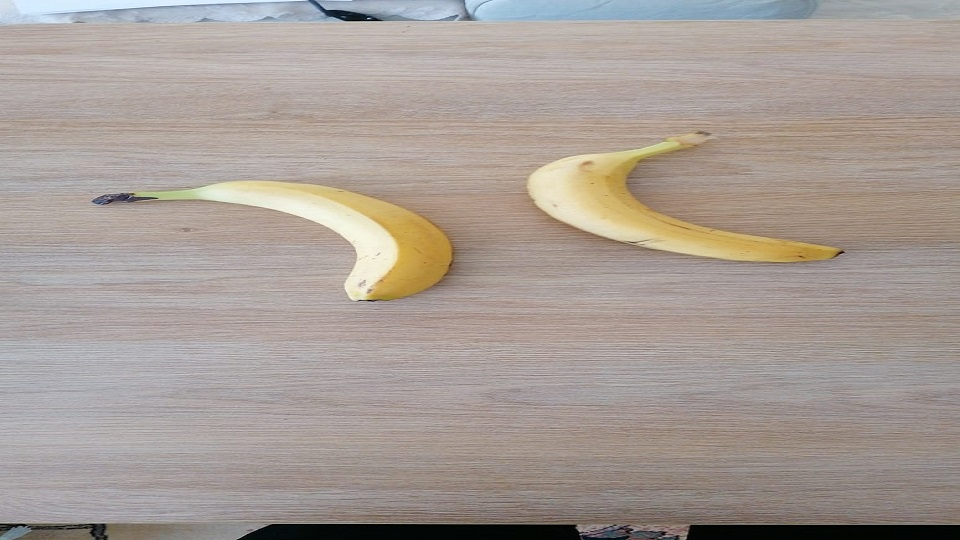muz: (94, 177, 454, 304), (524, 130, 845, 265)
